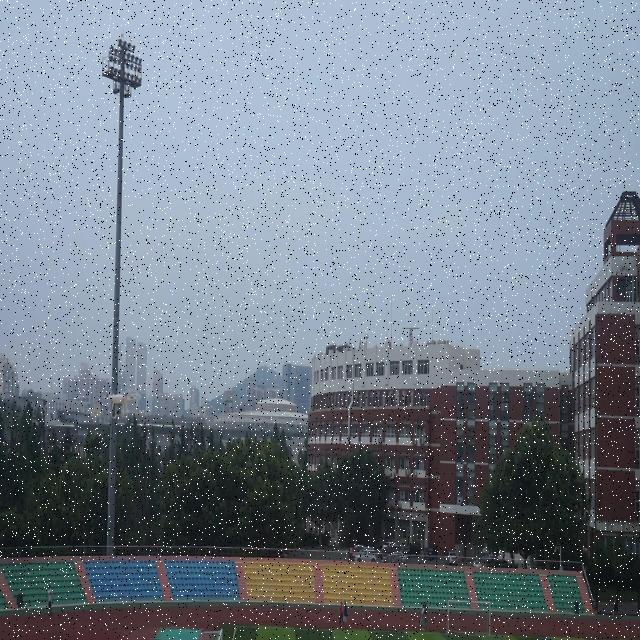UAV: (105, 391, 139, 419)
